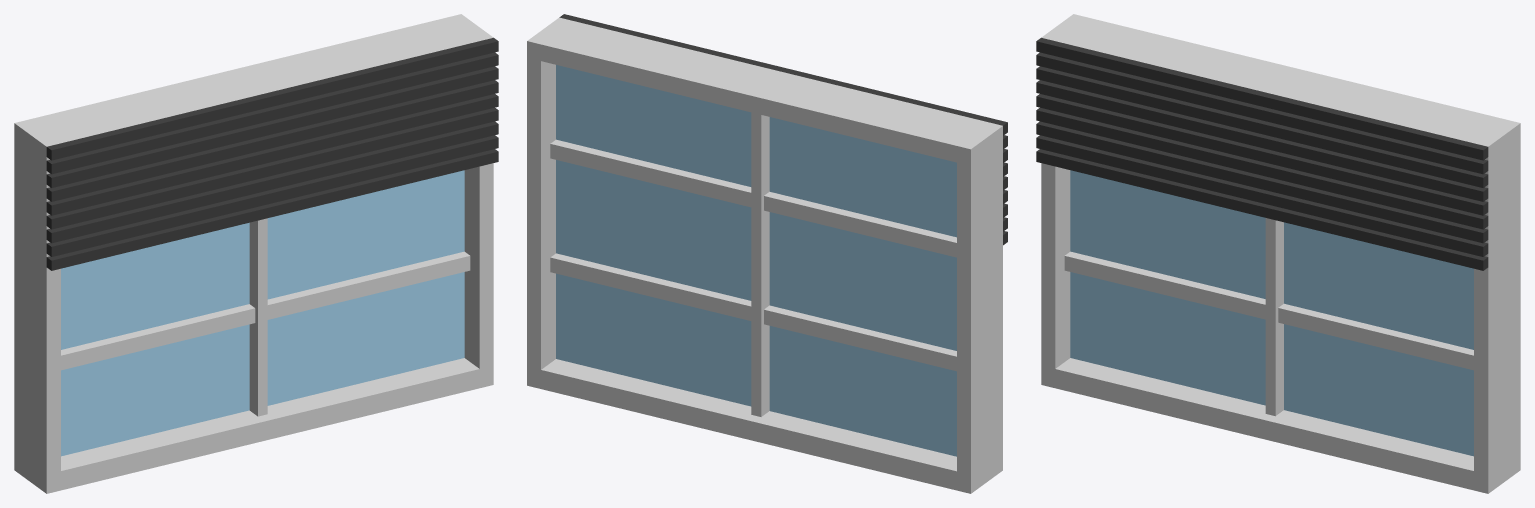
Rendered from window_010.glb.
3 views of the same model, side by side, from view 1: azimuth 30°, elevation 25°; view 2: azimuth 150°, elevation 25°; view 3: azimuth 330°, elevation 25° (orthographic).
Visible parts, largest first — view 1: window_010; view 2: window_010; view 3: window_010.
Boxes of the visible parts, box(x1,y1,x2,y2) form: window_010: box(14, 14, 498, 493); window_010: box(527, 14, 1007, 493); window_010: box(1036, 14, 1520, 493).
Size of the model in its own units: 2.25 by 1.67 by 0.3252.
Materials: 1 (1 with a texture image).
